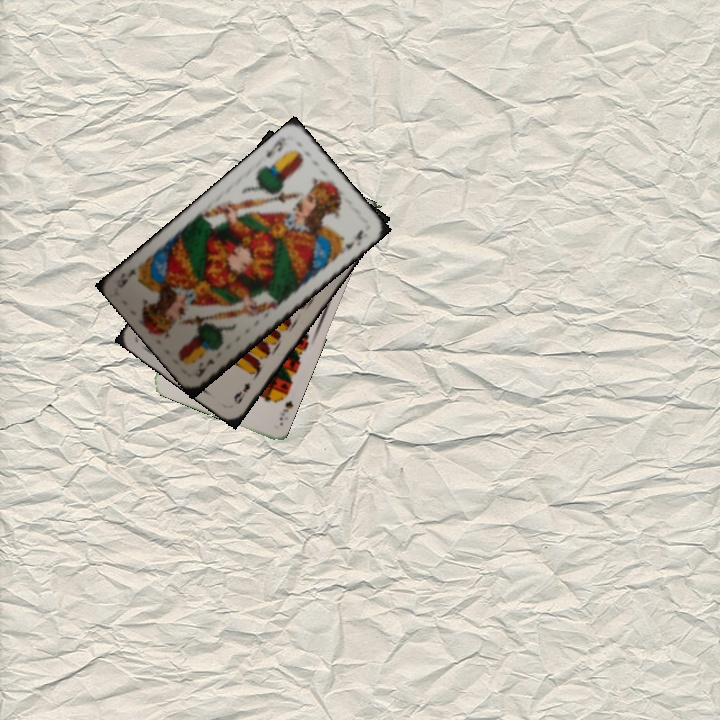E9: (229, 378, 253, 407)
EK: (262, 133, 291, 160), (190, 355, 217, 380)
S9: (275, 386, 295, 423)
